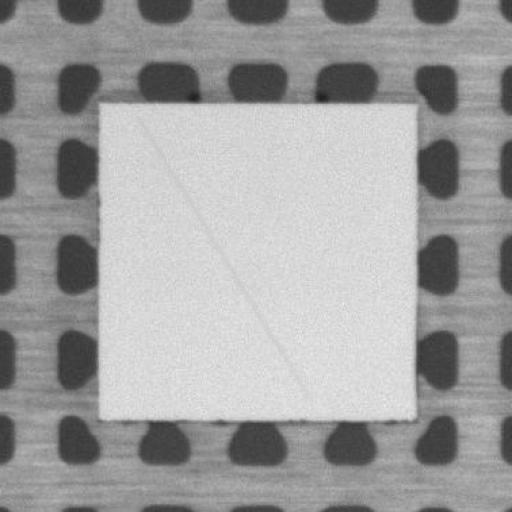DIE_CRACK: (138, 118, 308, 398)
